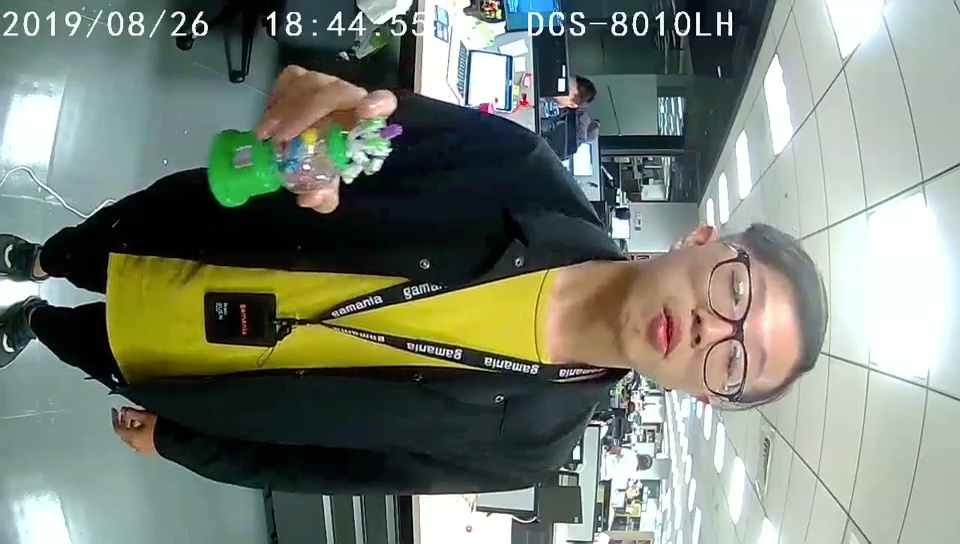buzz: (206, 116, 403, 209)
